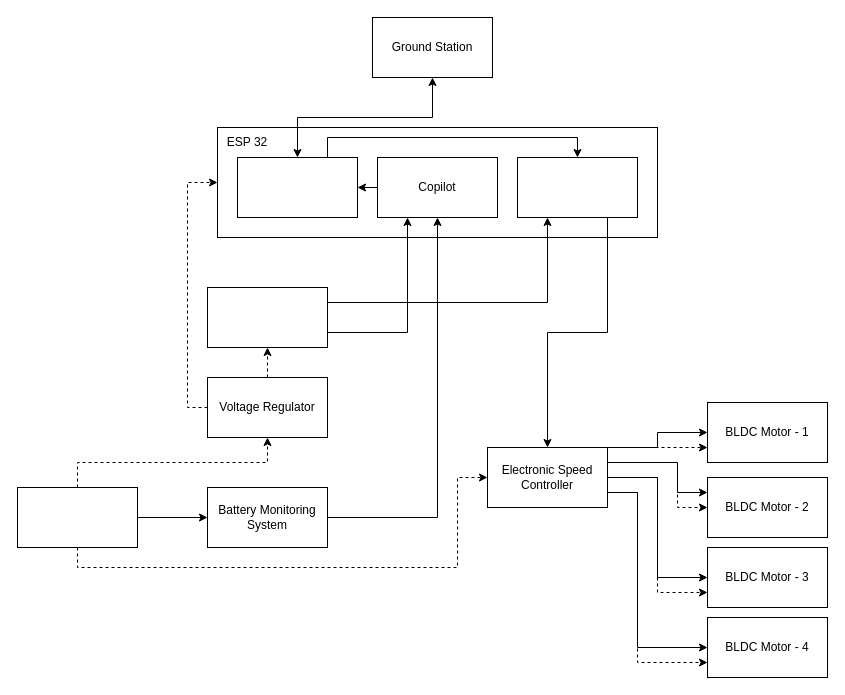
This 845x695 diagram has some shape labels left out. The centre of each missing label's shape, as x and y in pixels:
Battery: point 77,517
Comms Interface: point 297,187
IMU: point 267,317
Pilot: point 577,187
